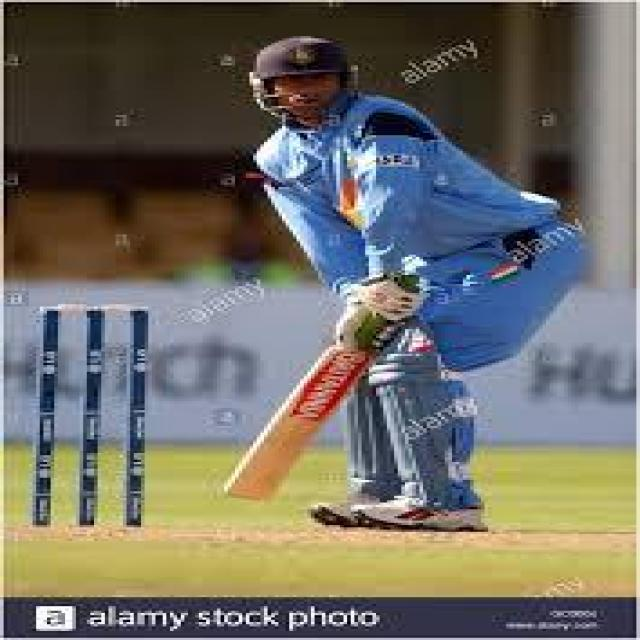bat: (223, 349, 369, 506)
toe: (223, 481, 274, 504)
